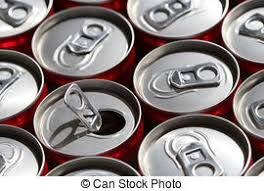can: (35, 79, 140, 156), (134, 40, 238, 111), (33, 6, 133, 75), (138, 113, 249, 175), (127, 0, 227, 36), (0, 49, 42, 118), (223, 0, 263, 61), (0, 124, 45, 175), (0, 0, 53, 38), (234, 70, 262, 137), (43, 156, 140, 175)
